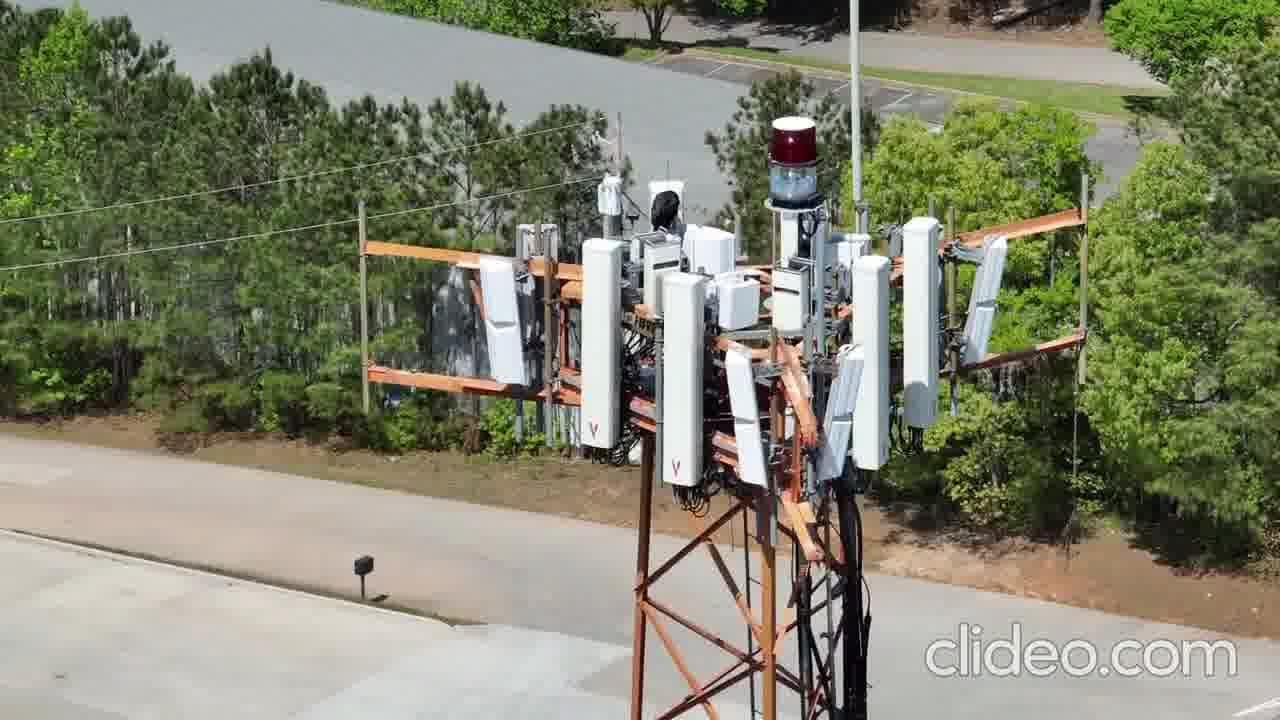antenna: (654, 267, 712, 501), (572, 234, 626, 460), (893, 212, 947, 430), (852, 253, 902, 473), (476, 251, 536, 397), (719, 340, 774, 490)
